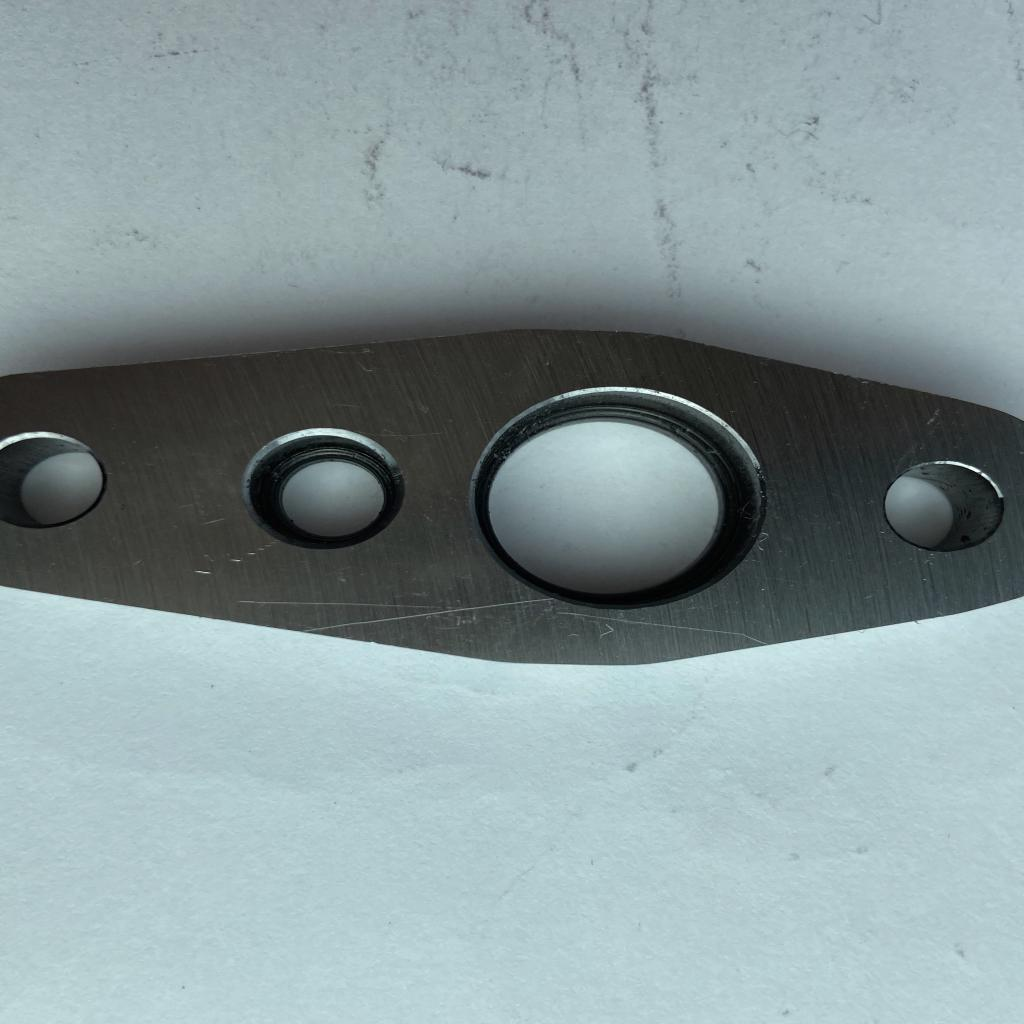chap: (229, 538, 279, 564), (192, 566, 214, 578)
lines: (312, 610, 441, 633), (443, 596, 555, 614), (684, 628, 764, 646), (570, 616, 686, 628)
